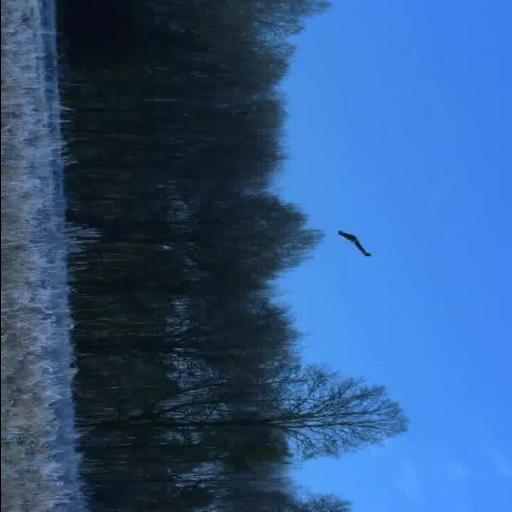uav: (330, 230, 375, 260)
